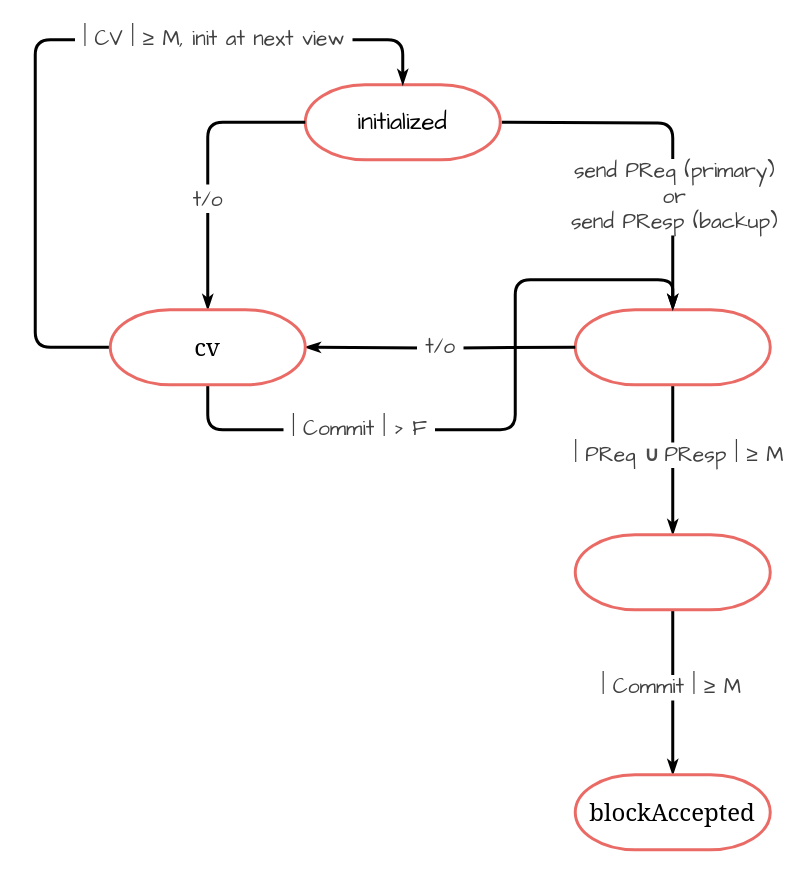
Image size: 809x876. Some labels were removed from this diagram. The shapes that lost their labels are listed below. From the top down, each one's centre as x and y in pixels, then its label:
At point (672, 347): "prepareSent".
At point (672, 571): "commitSent".
